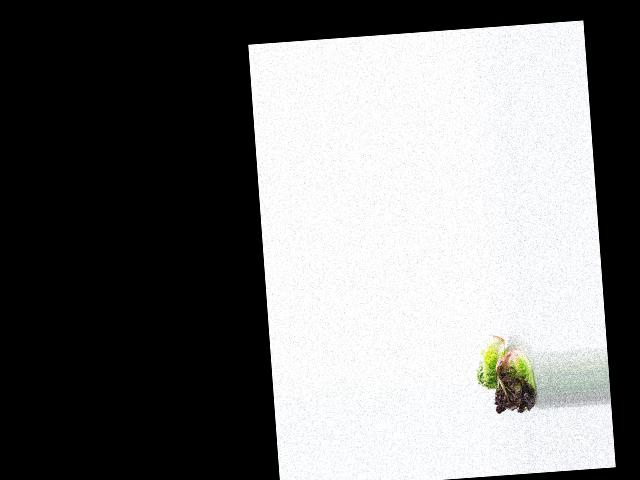lettuce: (473, 332, 510, 391)
